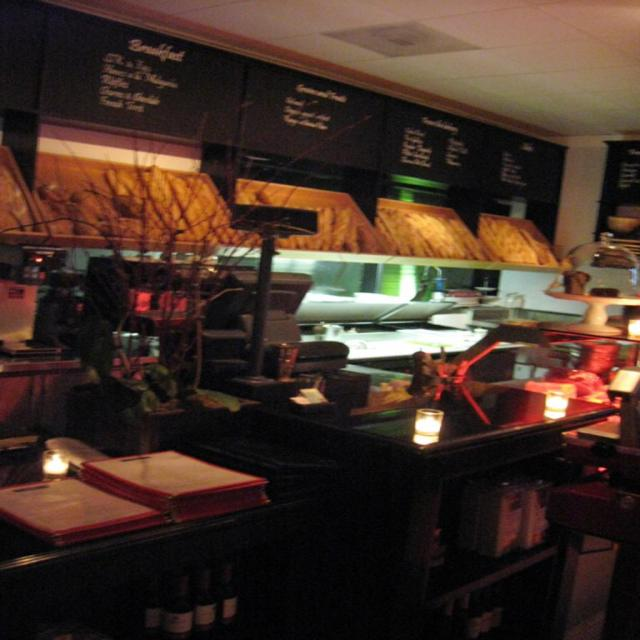table: (302, 347, 614, 612)
